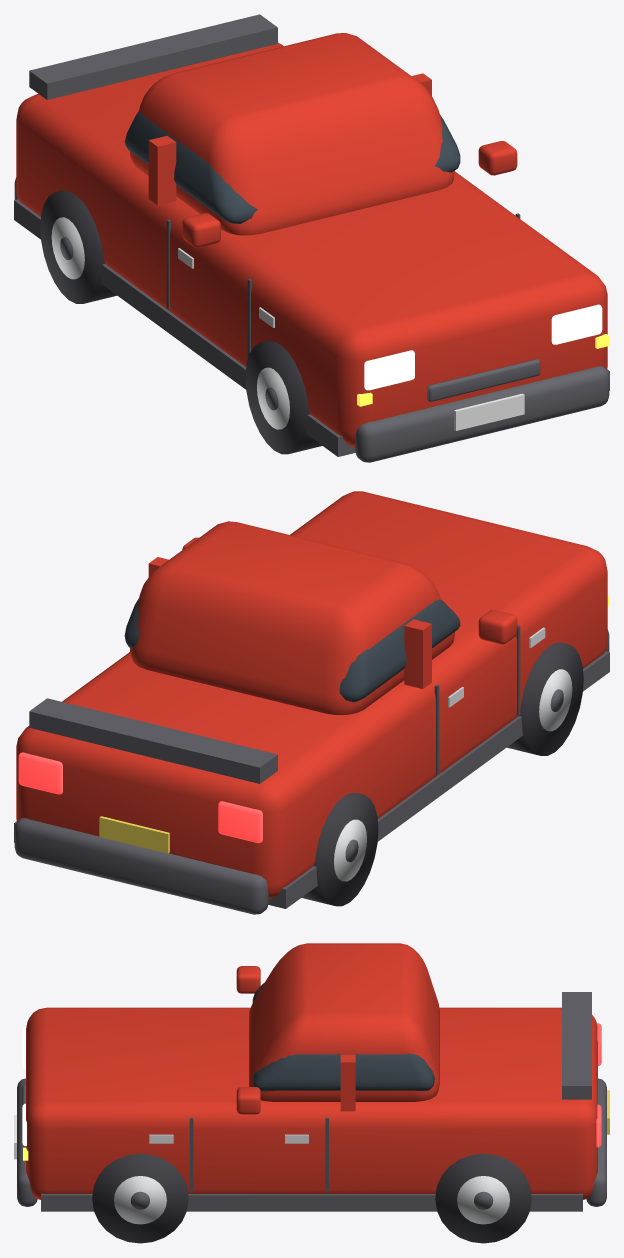
File: hatchback-sports.glb
The picture shows the model from 3 angles, top to bottom: view 1: azimuth 30°, elevation 25°; view 2: azimuth 150°, elevation 25°; view 3: azimuth 270°, elevation 25°; orthographic projection. The views are drawn at different scales.
Parts seen in each view (by area): view 1: hatchback-sports; view 2: hatchback-sports; view 3: hatchback-sports.
Part boxes in pixels (box(x1,y1,x2,y2)): hatchback-sports: box(14, 14, 609, 462); hatchback-sports: box(14, 491, 609, 914); hatchback-sports: box(14, 943, 609, 1243).
Bounding box in the file's own units: 1.04 × 0.76 × 1.98.
